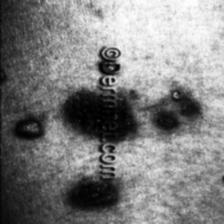Toxin: (72, 180, 116, 206), (0, 120, 38, 147)
